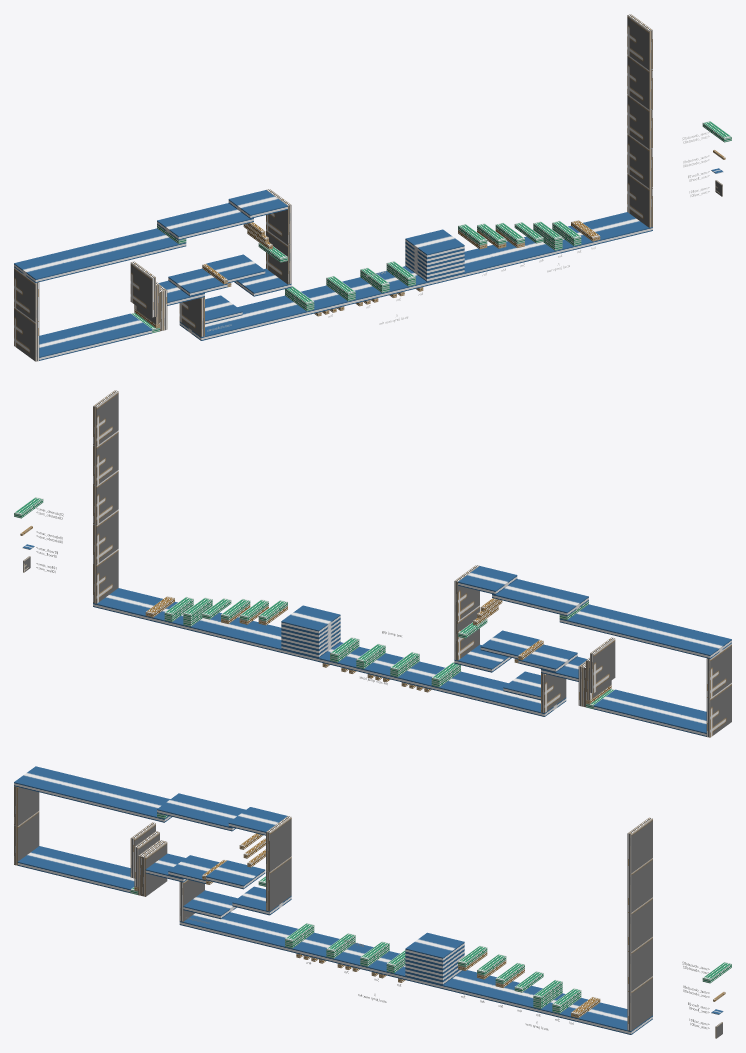
File: metrics_testv012.fbx
3 views of the same model, one above another, from view 1: azimuth 30°, elevation 25°; view 2: azimuth 150°, elevation 25°; view 3: azimuth 330°, elevation 25° (orthographic).
Parts seen in each view (by area): view 1: 10x1m_wall.007, 10x1m_wall.011, 1x10m_plane.017, 1x10m_plane.032, 1x10m_plane.020, 1x10m_plane.027, 10x1m_wall.006, 10x1m_wall.003, 10x1m_wall.005, 10x1m_wall.014, 10x1m_wall.002, 10x1m_wall.013 (+22 smaller); view 2: 10x1m_wall.007, 10x1m_wall.011, 1x10m_plane.017, 1x10m_plane.032, 1x10m_plane.020, 1x10m_plane.027, 10x1m_wall.006, 10x1m_wall.003, 10x1m_wall.005, 10x1m_wall.014, 10x1m_wall.002, 10x1m_wall.013 (+22 smaller); view 3: 10x1m_wall.007, 10x1m_wall.004, 1x10m_plane.017, 1x10m_plane.024, 10x1m_wall.003, 10x1m_wall.001, 10x1m_wall.002, 10x1m_wall.006, 10x1m_wall.005, 1x10m_plane.021, 1x10m_plane.031, 1x10m_plane.033 (+27 smaller).
Boxes of the visible parts, box(x1,y1,x2,y2) form: 10x1m_wall.007: box(627, 14, 652, 70); 10x1m_wall.011: box(130, 261, 155, 317); 1x10m_plane.017: box(405, 229, 464, 258); 1x10m_plane.032: box(14, 254, 73, 282); 1x10m_plane.020: box(228, 190, 287, 218); 1x10m_plane.027: box(157, 211, 216, 239); 10x1m_wall.006: box(627, 54, 652, 109); 10x1m_wall.003: box(627, 133, 652, 188); 10x1m_wall.005: box(627, 94, 652, 148); 10x1m_wall.014: box(14, 307, 39, 361); 10x1m_wall.002: box(627, 173, 652, 227); 10x1m_wall.013: box(14, 267, 39, 322); 10x1m_wall.007: box(93, 390, 118, 446); 10x1m_wall.011: box(590, 637, 615, 693); 1x10m_plane.017: box(281, 605, 340, 634); 1x10m_plane.032: box(672, 630, 731, 658); 1x10m_plane.020: box(458, 566, 517, 594); 1x10m_plane.027: box(529, 587, 588, 615); 10x1m_wall.006: box(93, 430, 118, 485); 10x1m_wall.003: box(93, 509, 118, 564); 10x1m_wall.005: box(93, 470, 118, 524); 10x1m_wall.014: box(706, 683, 731, 737); 10x1m_wall.002: box(93, 549, 118, 603); 10x1m_wall.013: box(706, 643, 731, 698); 10x1m_wall.007: box(627, 817, 652, 873); 10x1m_wall.004: box(266, 816, 291, 871); 1x10m_plane.017: box(405, 932, 464, 961); 1x10m_plane.024: box(206, 860, 265, 889); 10x1m_wall.003: box(627, 937, 652, 991); 10x1m_wall.001: box(266, 856, 291, 911); 10x1m_wall.002: box(627, 976, 652, 1030); 10x1m_wall.006: box(627, 858, 652, 912); 10x1m_wall.005: box(627, 897, 652, 952); 1x10m_plane.021: box(183, 890, 237, 919); 1x10m_plane.031: box(51, 775, 110, 804); 1x10m_plane.033: box(17, 846, 76, 874).
Size of the model in its own units: 18500 by 5823 by 1000.
